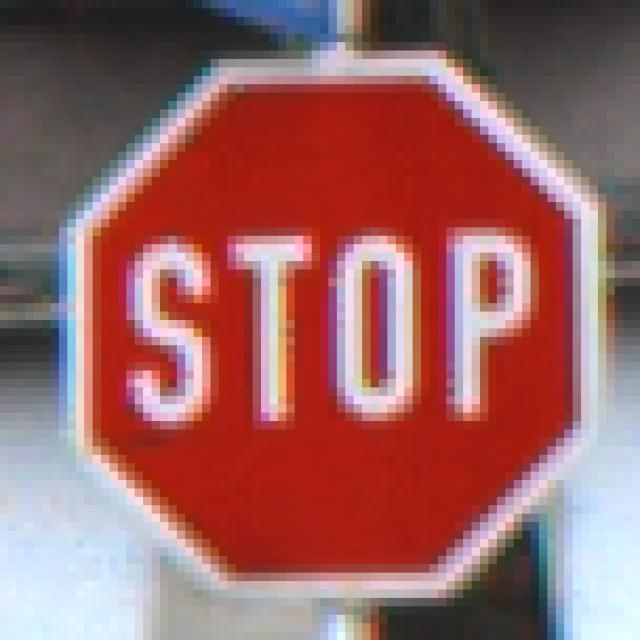STOP: (60, 60, 590, 590)
